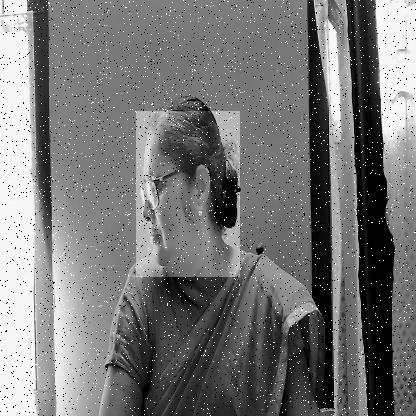Distracted: (136, 111, 240, 277)
